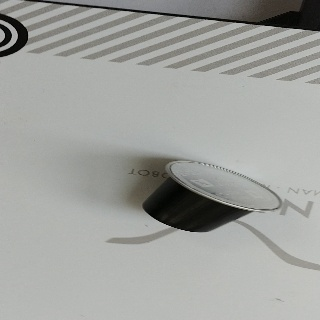capsule_10: (141, 158, 284, 233)
